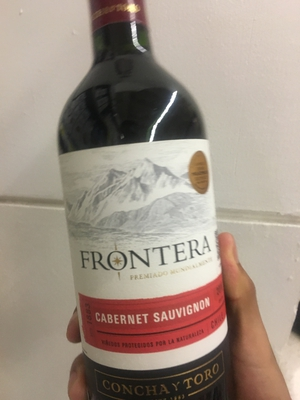frontera cabernet sauvignon: (63, 1, 237, 400)
